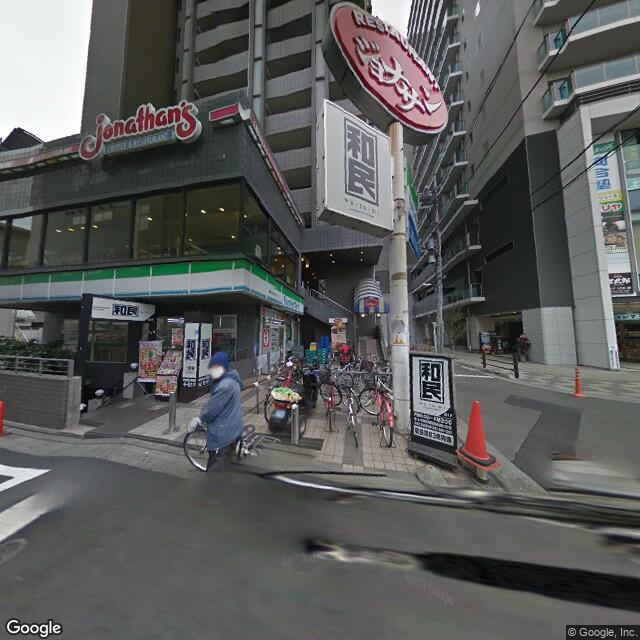family_mart: (2, 257, 307, 315)
